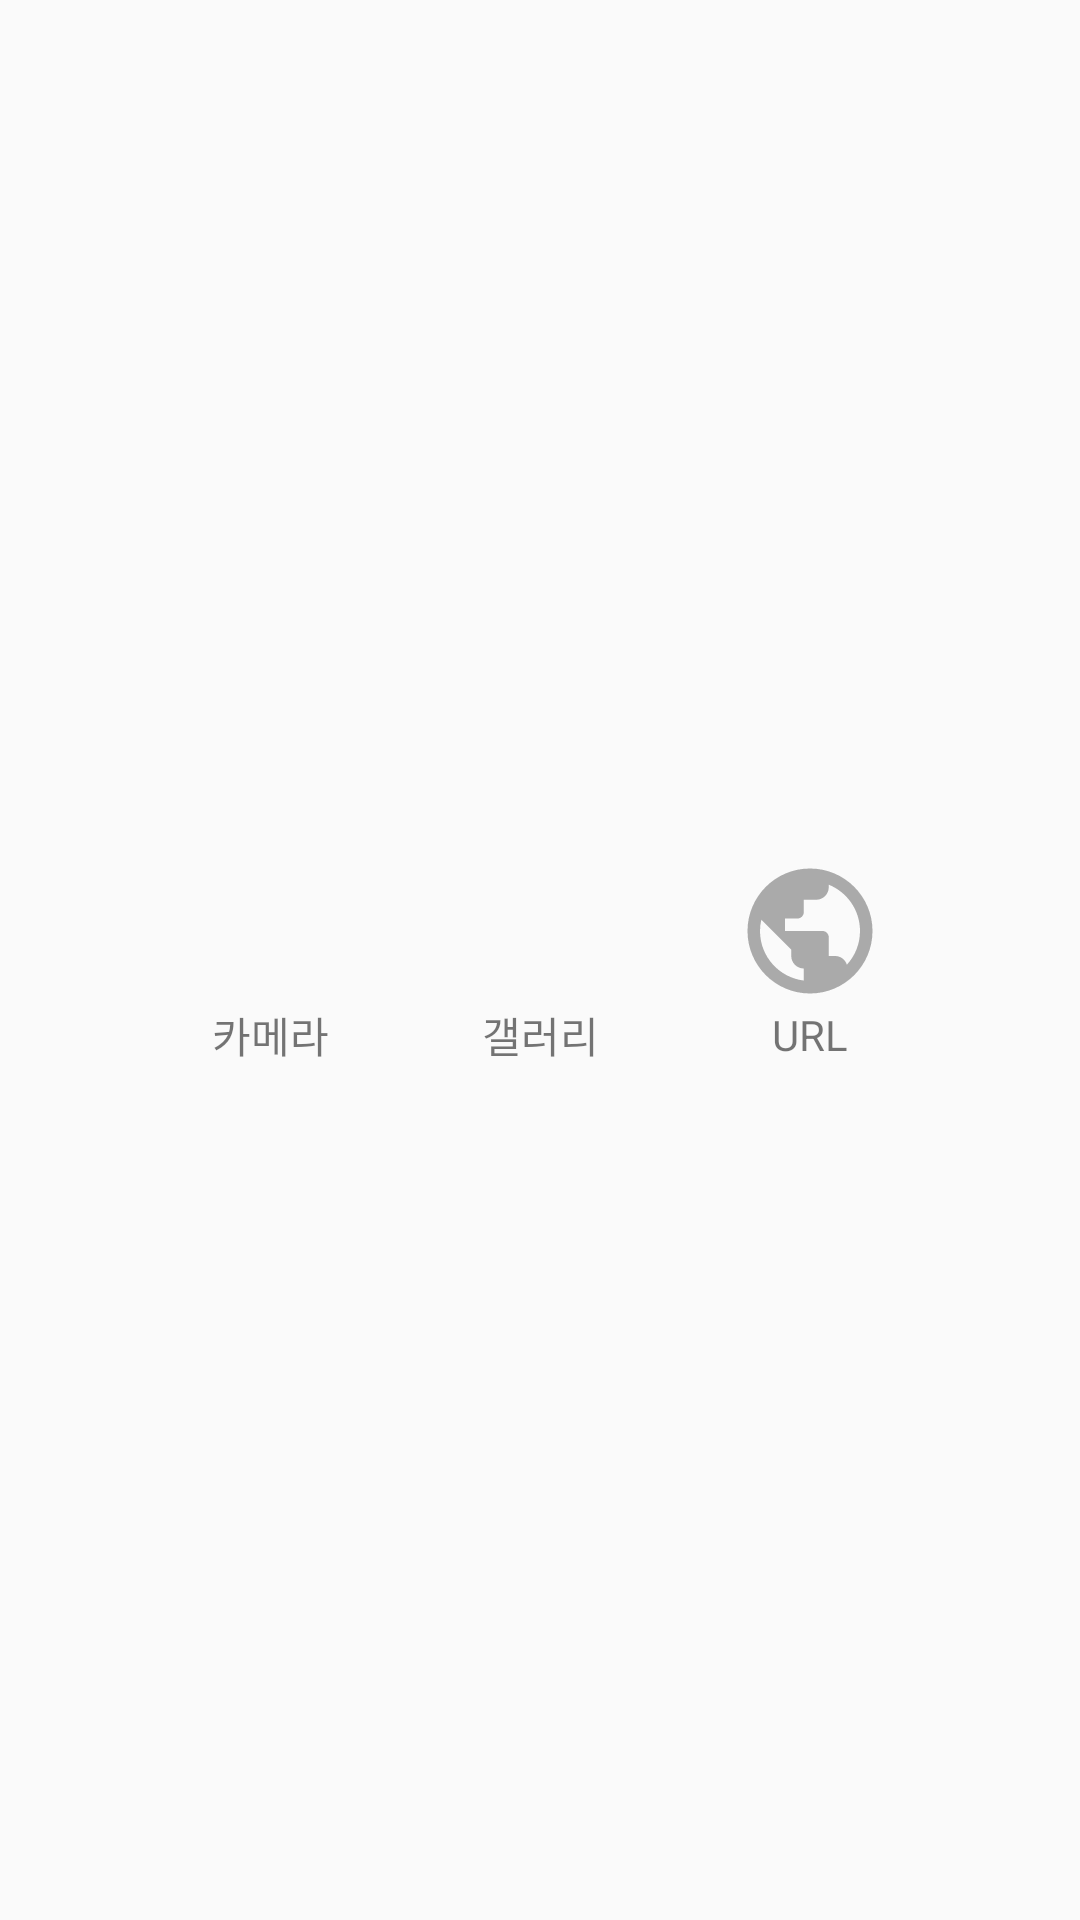

Where to tap for icons on this 1080px×1920px app screen, as (x,y):
public: (810,931)
